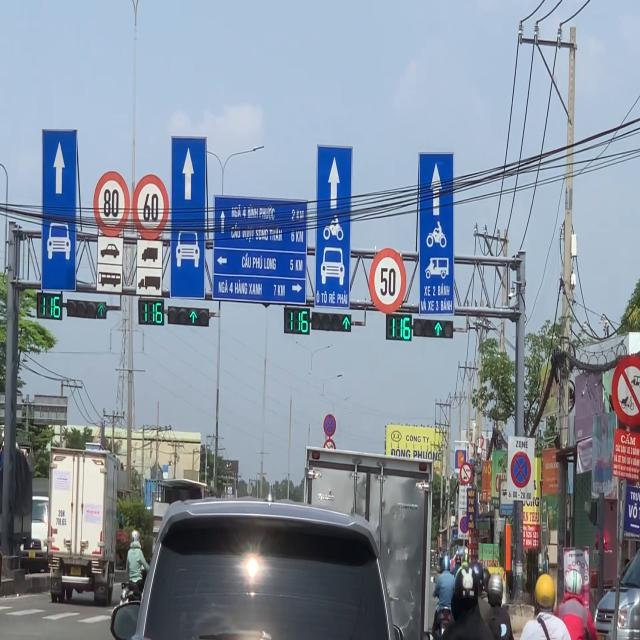Cam dung va do: (511, 452, 532, 488), (324, 414, 336, 436), (460, 516, 470, 534)
Toc do toi da: (93, 170, 130, 238), (369, 248, 407, 314), (132, 173, 169, 240)
